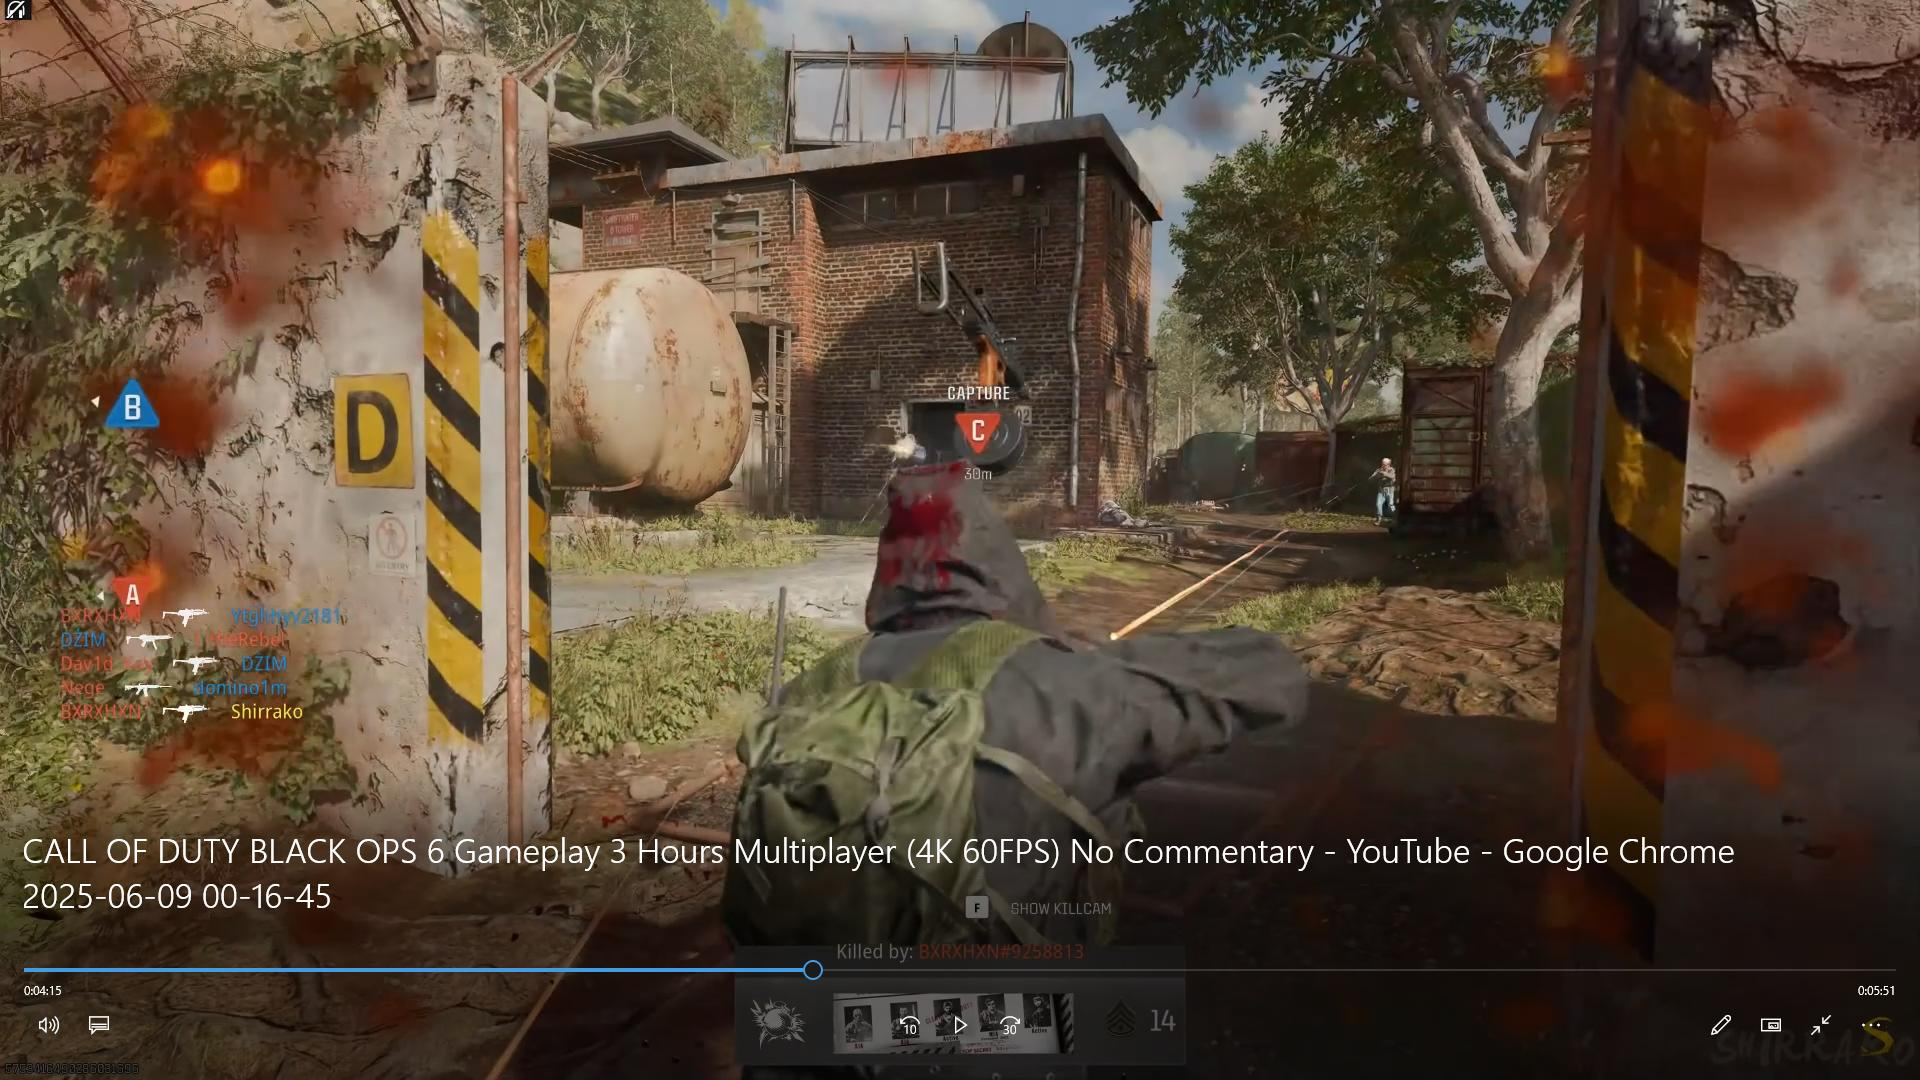Enemy: (1360, 447, 1400, 527), (889, 426, 930, 467)
